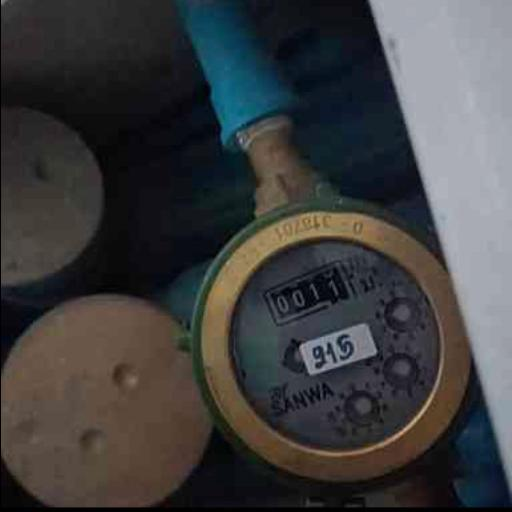0: (284, 281, 313, 314), (268, 288, 294, 321)
1: (318, 266, 351, 307), (301, 274, 329, 307)
border_water_meter_number: (260, 257, 358, 332)
